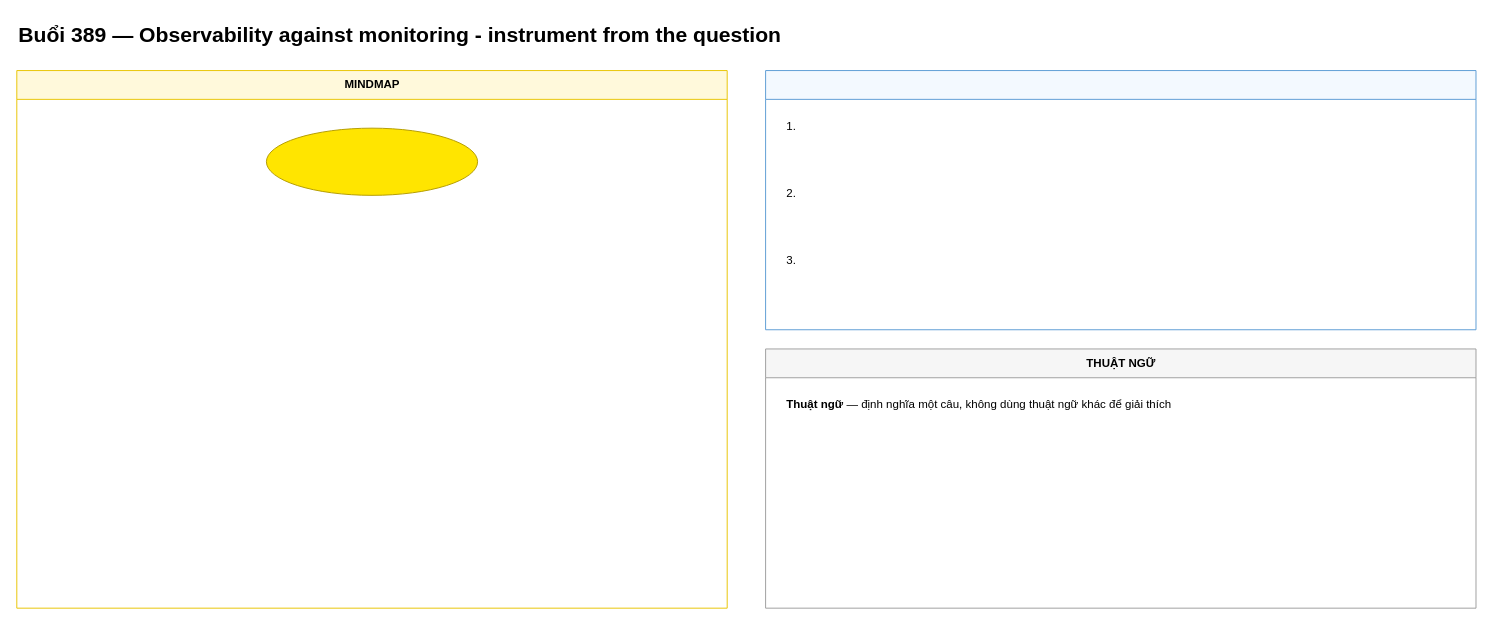
The diagram is 1493 pixels wide and 625 high, and some of its shapes have lost their labels. Each missing label, with the box of its shape:
KEY TAKEAWAY — ba điều phải nhớ: (765, 70, 1476, 330)
Observability against monitoring - instrument from the question: (265, 127, 478, 195)
